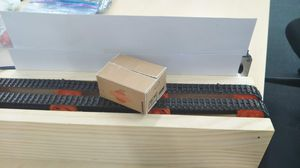box1: (94, 51, 168, 115)
